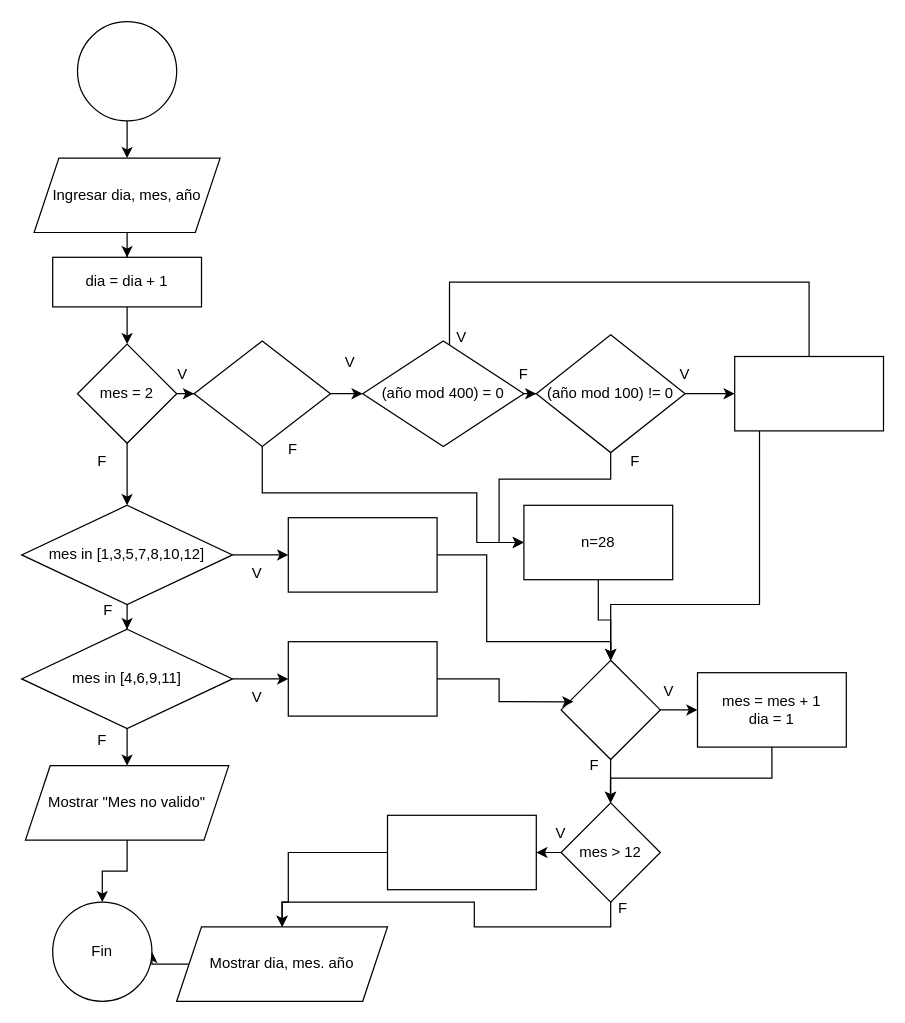
Some shapes in this 905 by 1023 pixel diagram are drawn without their labels. Each missing label, with the box of its shape:
(año mod 4) = 0: (193, 340, 330, 446)
año = año + 1 mes = 1: (386, 814, 536, 890)
dia > n: (560, 659, 660, 760)
Inicio: (76, 20, 177, 121)
n = 29: (733, 355, 884, 431)
n=30: (287, 640, 437, 716)
n=31: (287, 516, 437, 592)
